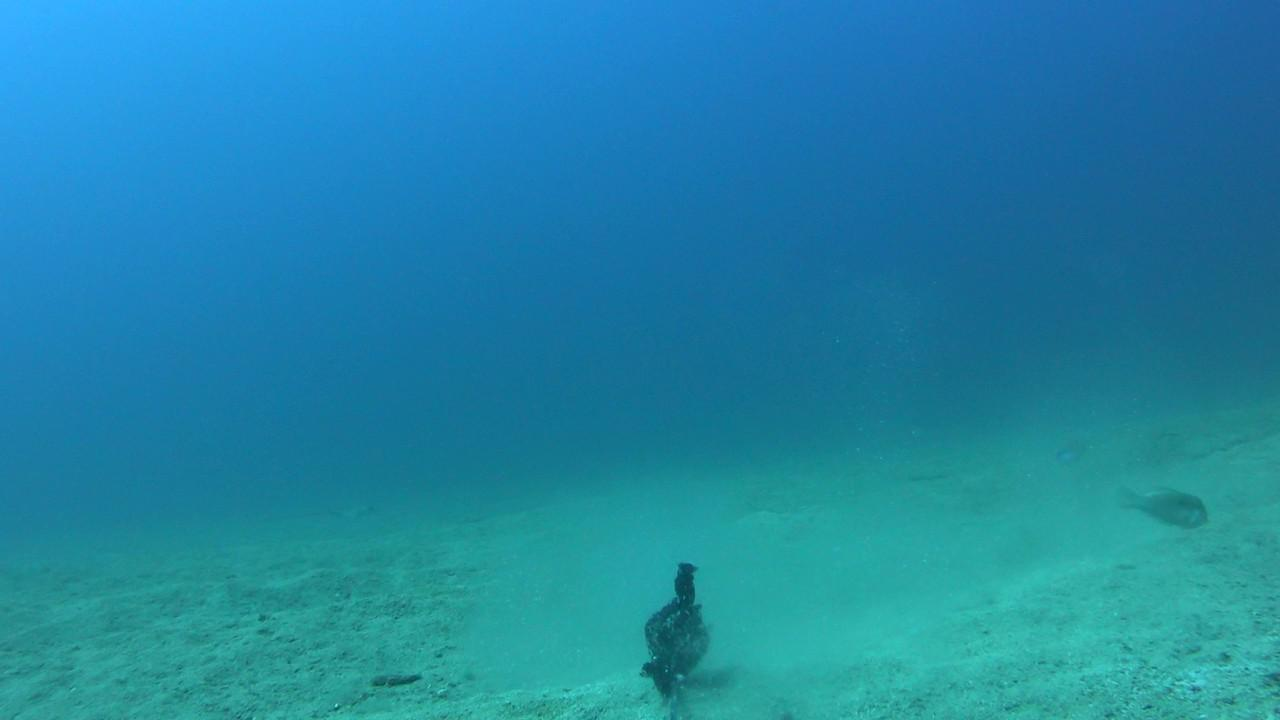myliobatis: (287, 499, 409, 541)
raor: (1103, 485, 1214, 531)
